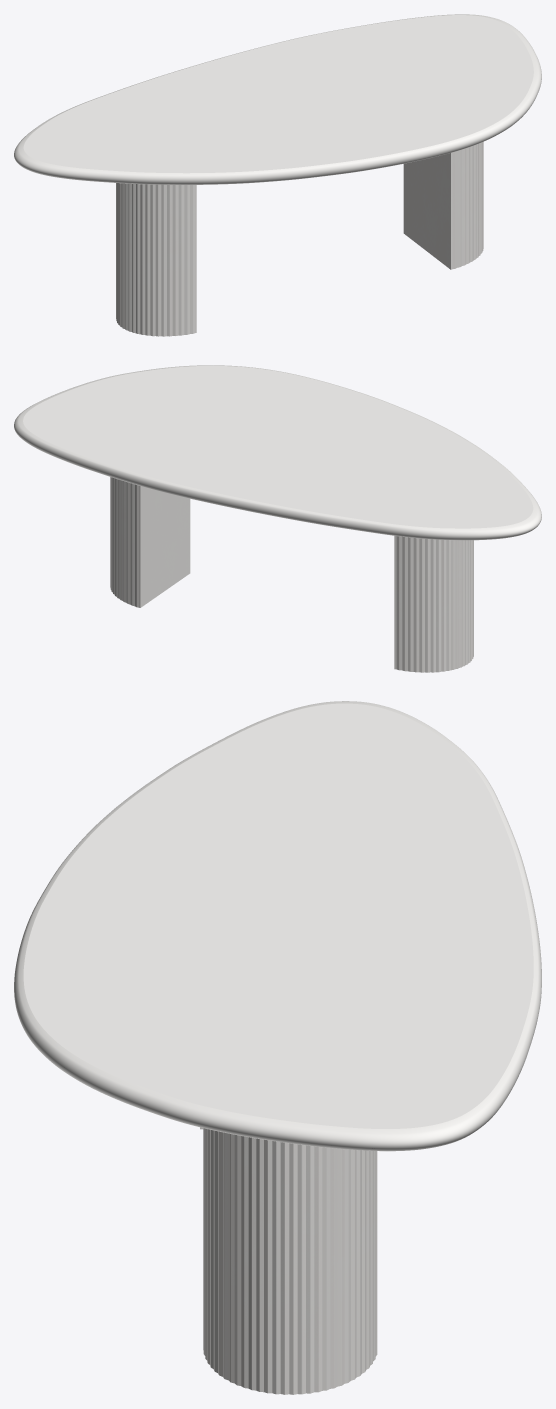
File: purewhite_pebbletop_round_flute.glb
3 renders of one model, top to bottom at view 1: azimuth 30°, elevation 25°; view 2: azimuth 150°, elevation 25°; view 3: azimuth 270°, elevation 25°, orthographic. The views are drawn at different scales.
Parts seen in each view (by area): view 1: round_pebbletop, flute; view 2: round_pebbletop, flute; view 3: round_pebbletop, flute.
Part boxes in pixels (x1,y1,x2,y2): round_pebbletop: [14, 14, 541, 184]; flute: [116, 142, 483, 336]; round_pebbletop: [14, 365, 541, 540]; flute: [110, 477, 473, 672]; round_pebbletop: [14, 701, 541, 1151]; flute: [200, 1127, 377, 1394].
Bounding box in the file's own units: 7.5 × 2.51 × 3.8.
Materials: 1 (1 with a texture image).
